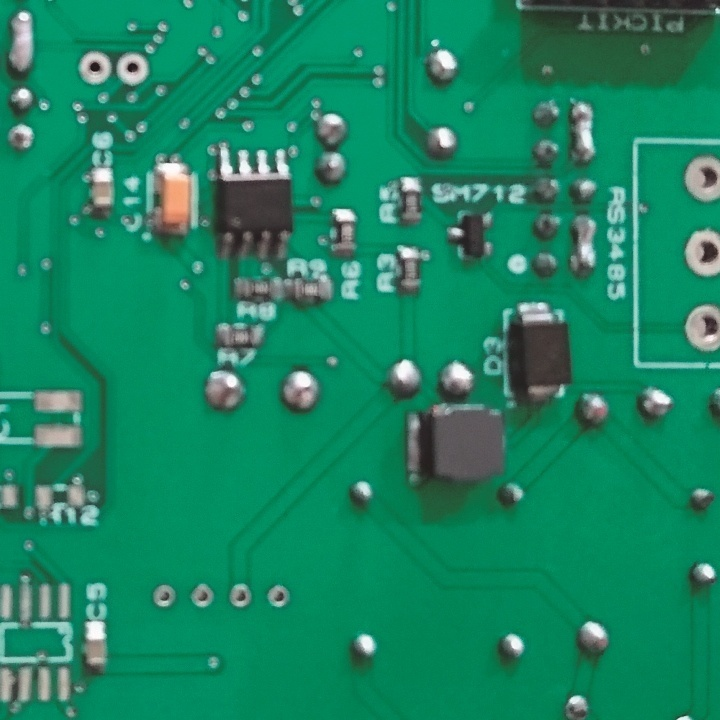F: (682, 153, 720, 210), (683, 303, 720, 358), (687, 226, 720, 280), (76, 49, 110, 87), (116, 49, 150, 87), (5, 120, 38, 154), (224, 581, 256, 608), (264, 583, 292, 611), (150, 583, 176, 612), (189, 581, 215, 609)
P: (568, 98, 599, 167), (7, 9, 38, 78), (570, 211, 598, 275)
